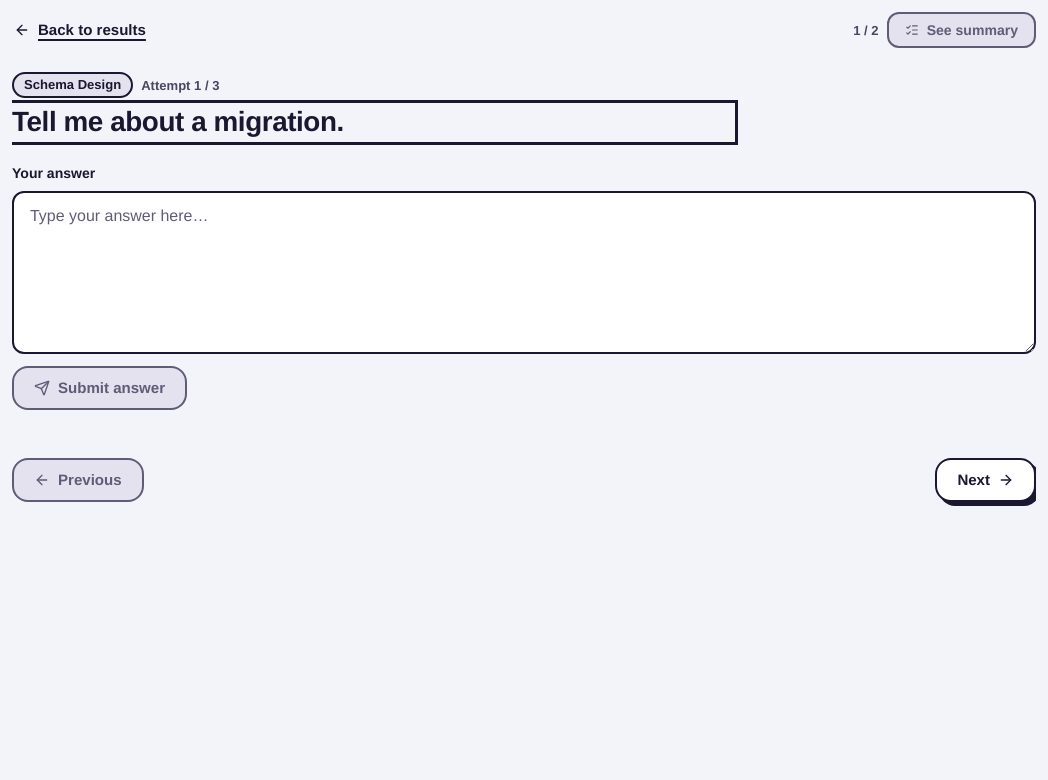
InterviewPracticeMode › does not burn an attempt on a failed request and shows the error as an alert
In the text box labelled "Your answer": (524, 272) [12, 191, 1036, 354], type "An answer."
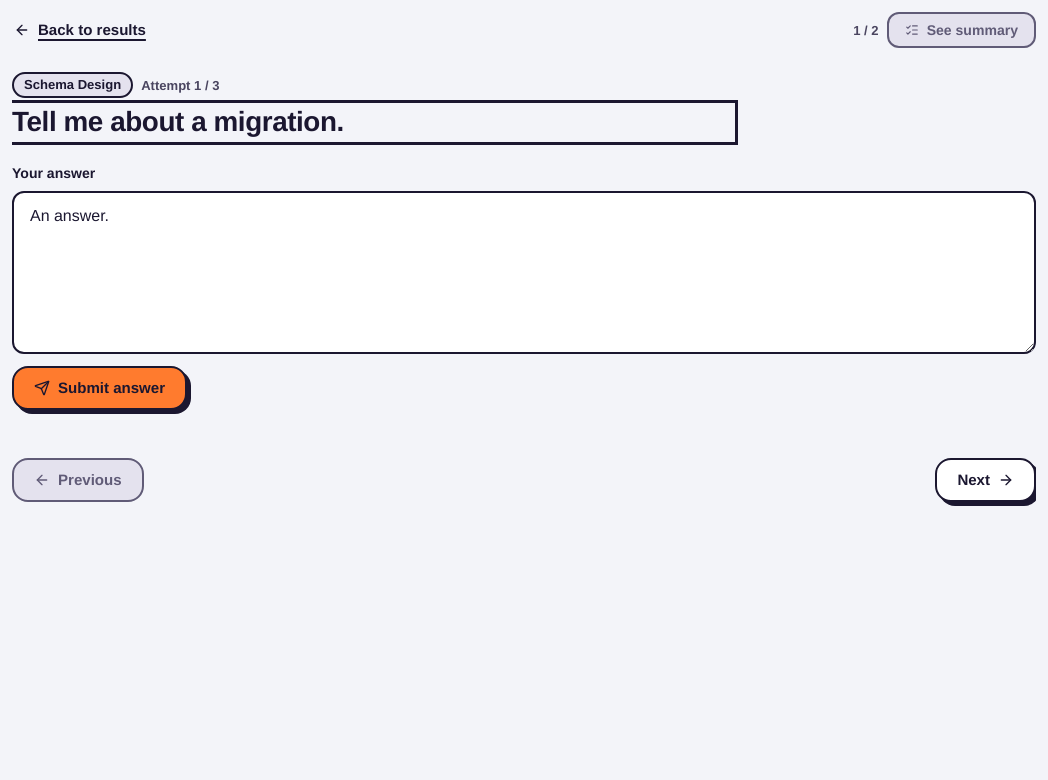
Click the button "Submit answer": click(100, 388) [12, 366, 187, 410]
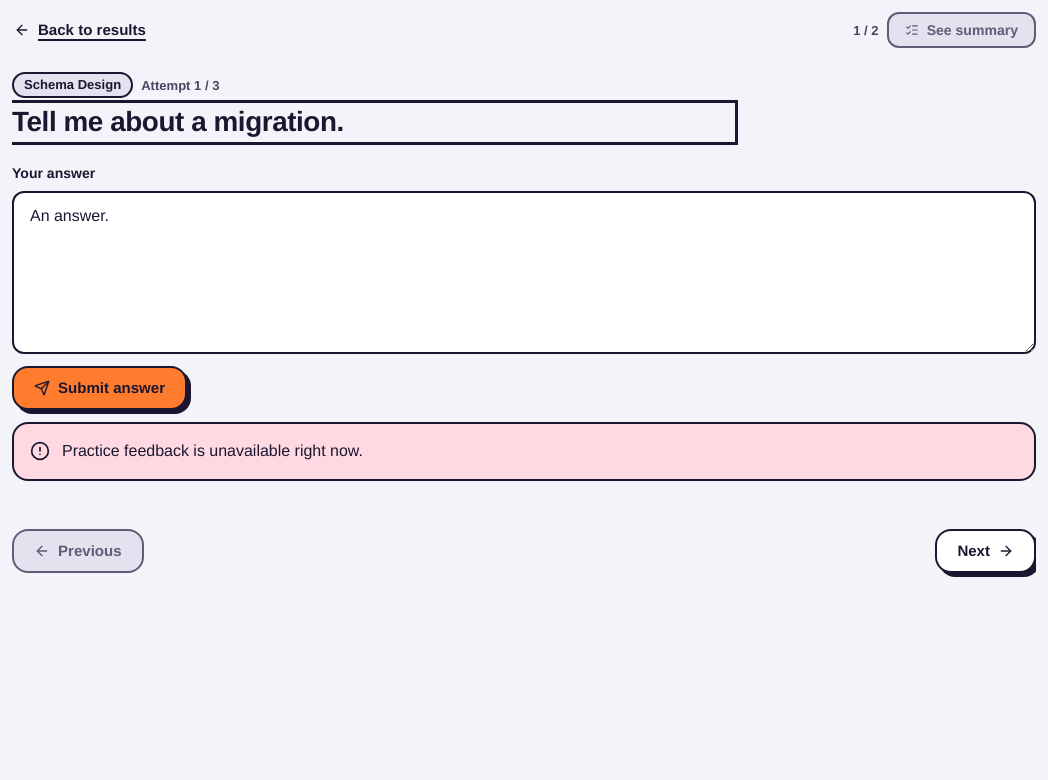
Expected: the text "Attempt 1 / 3" is shown, [141, 78, 220, 92]
Result: the message reads "Practice feedback is unavailable right now." at [62, 441, 363, 461]
